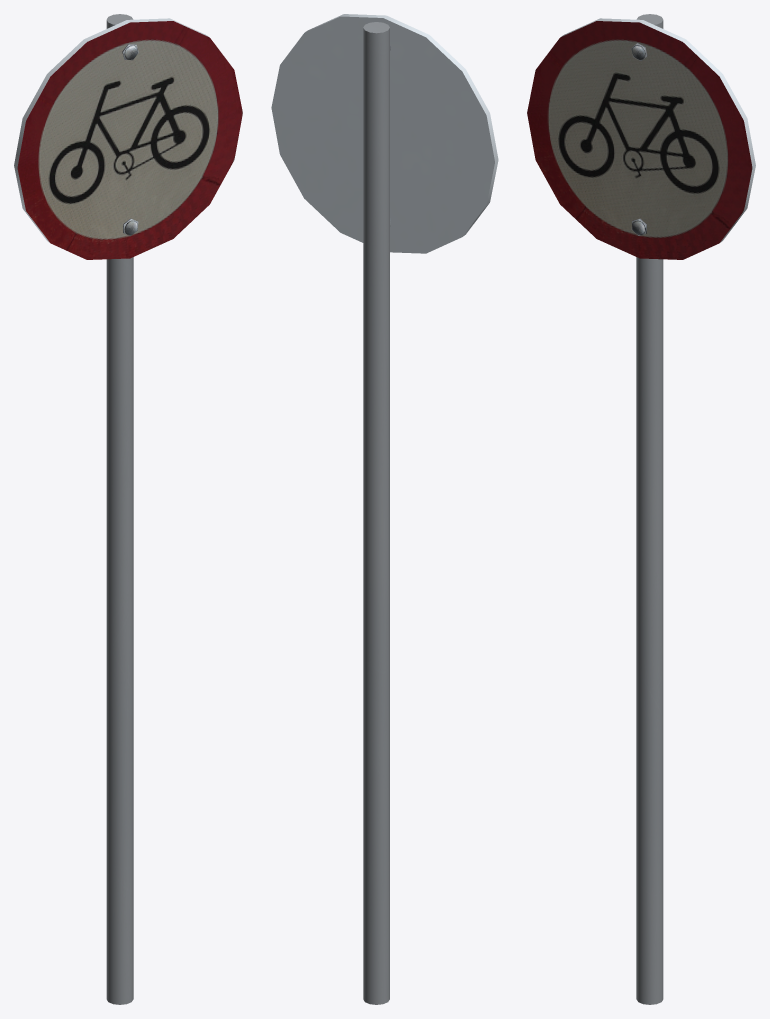
The model's file is StreetSigns_13.fbx.
The picture shows the model from 3 angles, left to right: view 1: azimuth 30°, elevation 25°; view 2: azimuth 150°, elevation 25°; view 3: azimuth 330°, elevation 25°; orthographic projection.
Visible parts, largest first — view 1: StreetSigns_13; view 2: StreetSigns_13; view 3: StreetSigns_13.
Boxes of the visible parts, x1,y1,x2,y2 form: StreetSigns_13: [14, 14, 242, 1004]; StreetSigns_13: [271, 14, 498, 1004]; StreetSigns_13: [527, 14, 755, 1004].
Size of the model in its own units: 0.9637 by 4.02 by 0.1378.
